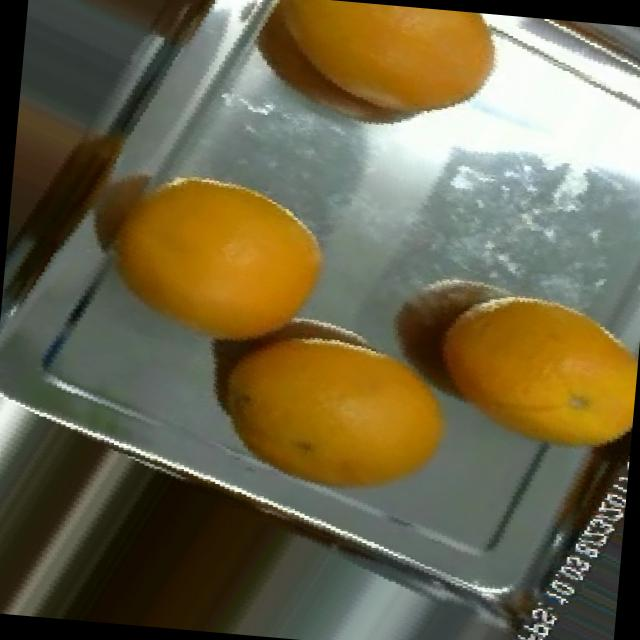Fruit: (420, 260, 640, 479), (32, 0, 249, 70)
